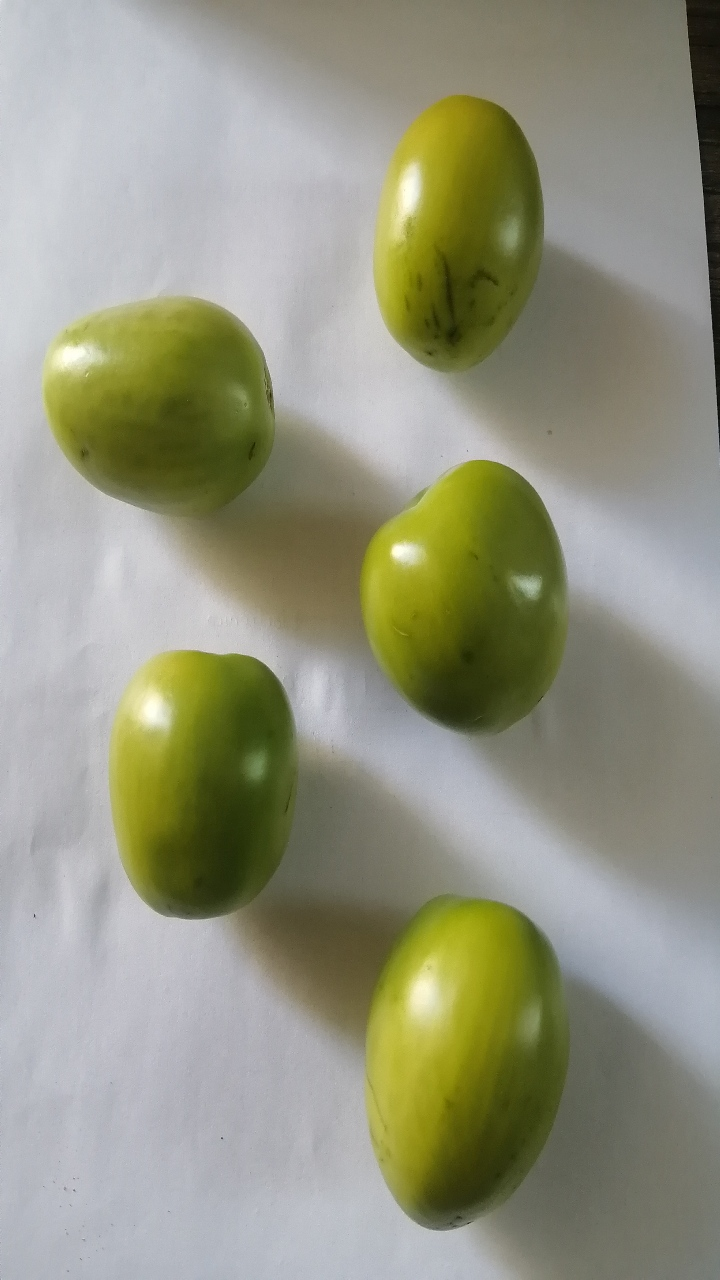tomateVerde: (328, 860, 586, 1251), (318, 423, 575, 742), (351, 72, 569, 388), (32, 279, 292, 539), (95, 626, 308, 937)
